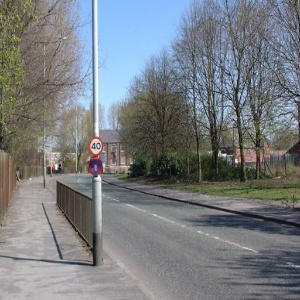40 speed: (88, 137, 104, 156)
